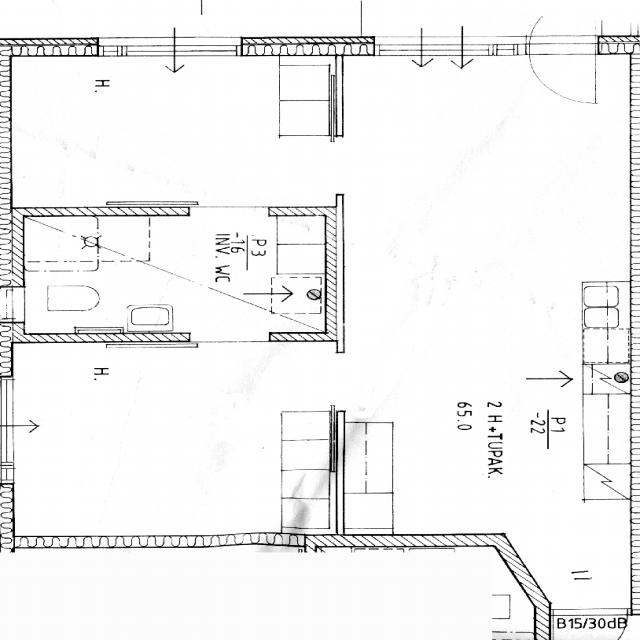door: (530, 38, 595, 104), (530, 0, 595, 56)
